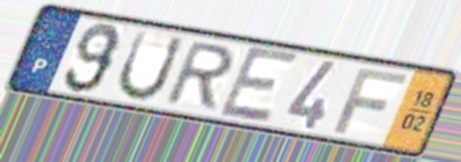4: (282, 57, 338, 134)
9: (60, 21, 123, 97)
E: (214, 43, 303, 125)
F: (330, 66, 411, 137)
R: (159, 40, 240, 113)
U: (113, 27, 189, 103)
